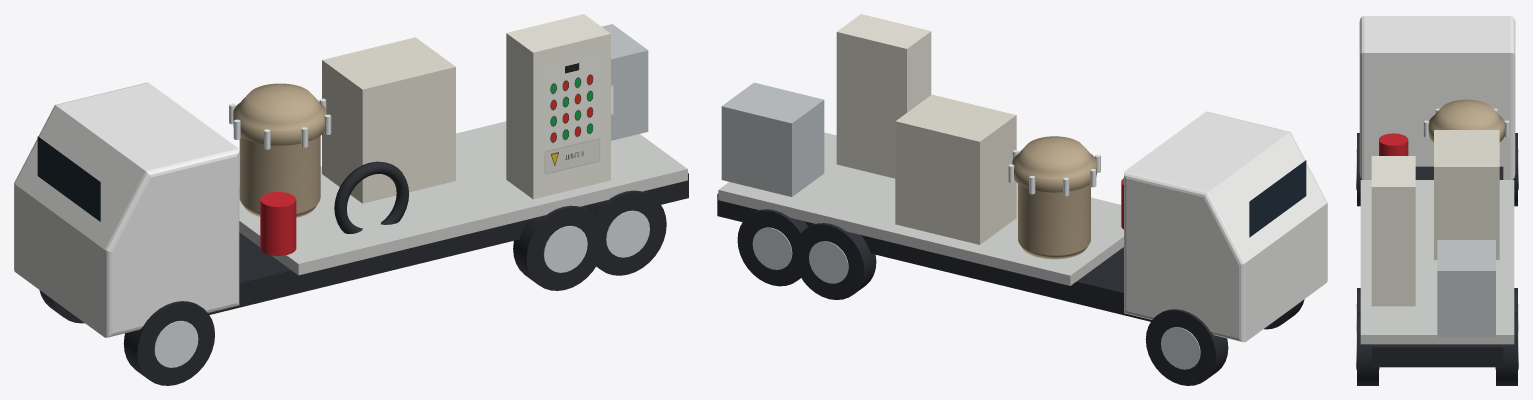
Rendered from truck.glb.
3 views of the same model, side by side, from view 1: azimuth 30°, elevation 25°; view 2: azimuth 150°, elevation 25°; view 3: azimuth 270°, elevation 25° (orthographic). The views are drawn at different scales.
Visible parts, largest first — view 1: Caminhão de filtragem; view 2: Caminhão de filtragem; view 3: Caminhão de filtragem.
Boxes of the visible parts, box(x1,y1,x2,y2) form: Caminhão de filtragem: box(14, 14, 688, 385); Caminhão de filtragem: box(717, 14, 1327, 385); Caminhão de filtragem: box(1356, 16, 1518, 385).
Bounding box in the file's own units: 0.756 × 0.29 × 0.222.
Materials: 32 (2 with a texture image).
